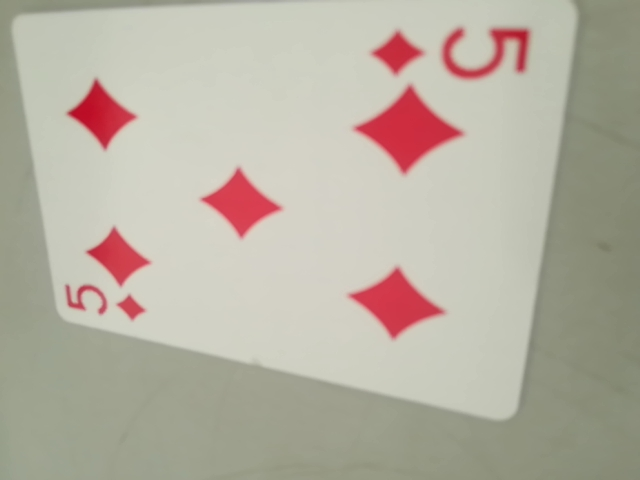fk 5: (366, 15, 536, 87), (57, 278, 149, 329)
